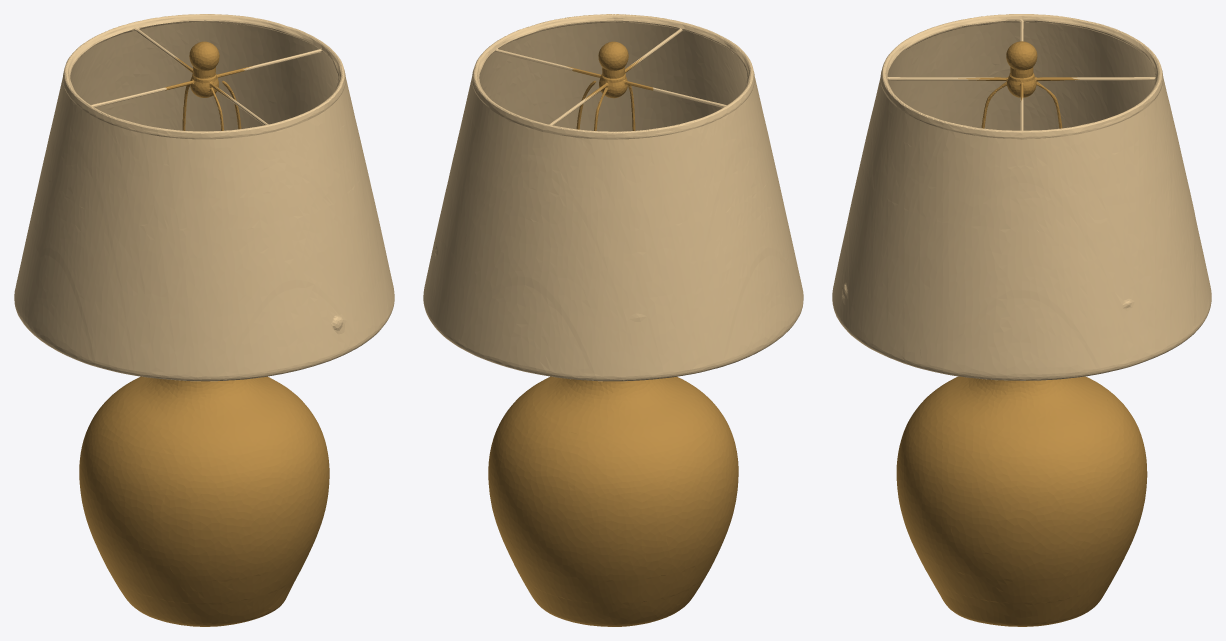
Rendered from lamp_semantic.glb.
3 renders of one model, left to right at view 1: azimuth 30°, elevation 25°; view 2: azimuth 150°, elevation 25°; view 3: azimuth 270°, elevation 25°, orthographic.
Visible parts, largest first — view 1: RoomOne_Lamp; view 2: RoomOne_Lamp; view 3: RoomOne_Lamp.
Part boxes in pixels (box(x1,y1,x2,y2)): RoomOne_Lamp: box(14, 14, 394, 626); RoomOne_Lamp: box(423, 14, 803, 626); RoomOne_Lamp: box(832, 14, 1211, 626).
Bounding box in the file's own units: 1.18 × 1.9 × 1.18.
